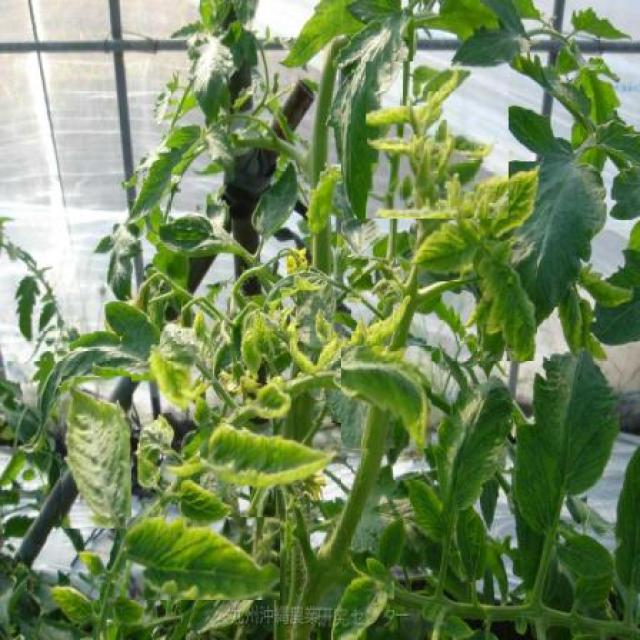Yellow Leaf Curl Virus: (366, 62, 508, 218), (126, 518, 281, 600), (62, 376, 132, 528), (340, 346, 431, 449), (200, 423, 340, 486), (477, 249, 537, 361), (318, 571, 395, 640), (482, 162, 540, 242), (417, 219, 477, 282), (147, 345, 196, 414), (242, 383, 292, 418)
